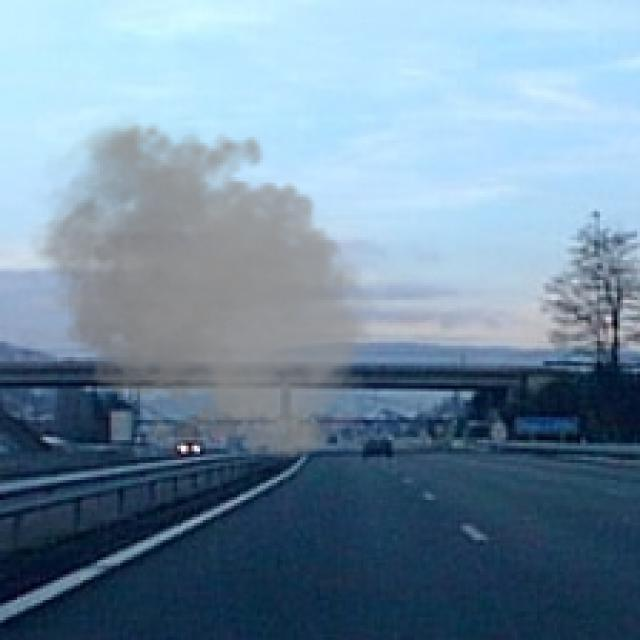smoke: (17, 111, 383, 466)
